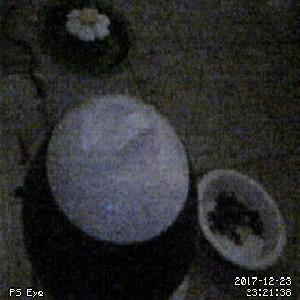fountain: (40, 1, 133, 76)
